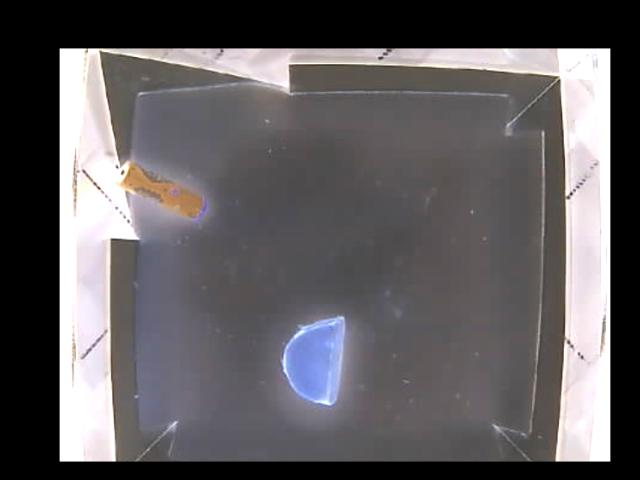Battery: (117, 159, 211, 221)
Potato: (279, 316, 347, 402)
